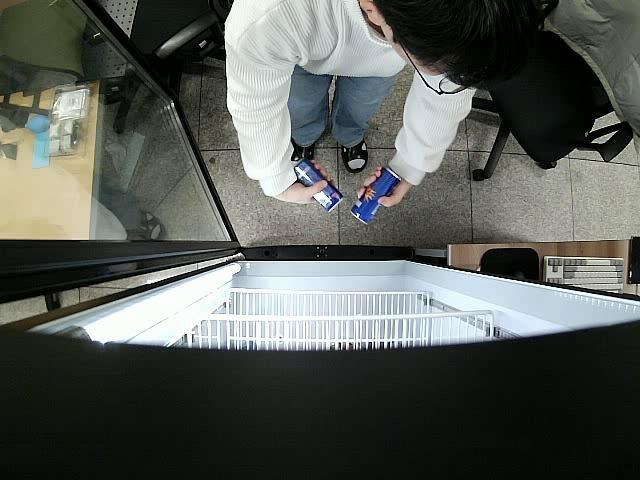16_hot6: (351, 168, 400, 226), (294, 158, 343, 212)
